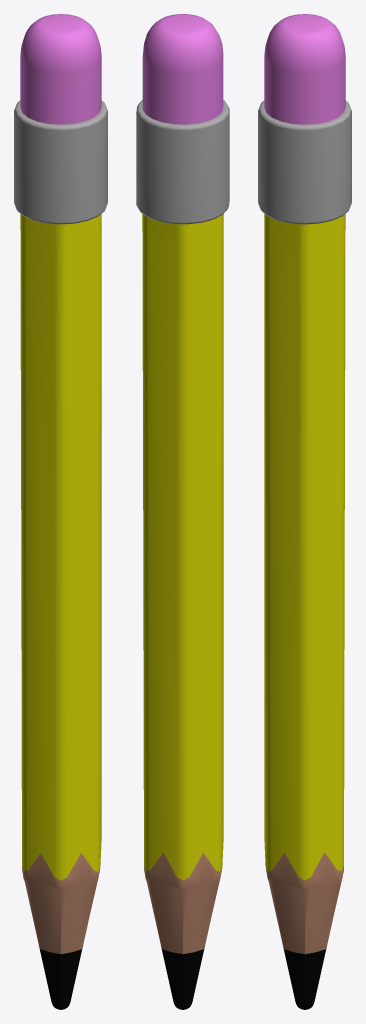
File: SM_TallTrippyTreeB1.fbx
3 renders of one model, left to right at view 1: azimuth 90°, elevation 25°; view 2: azimuth 150°, elevation 25°; view 3: azimuth 270°, elevation 25°, orthographic.
Parts seen in each view (by area): view 1: Pencil; view 2: Pencil; view 3: Pencil.
Boxes of the visible parts, <box> form: Pencil: <box>14,14,107,1009</box>; Pencil: <box>136,14,229,1009</box>; Pencil: <box>258,14,351,1009</box>.
Bounding box in the file's own units: 219 × 2532 × 219.
